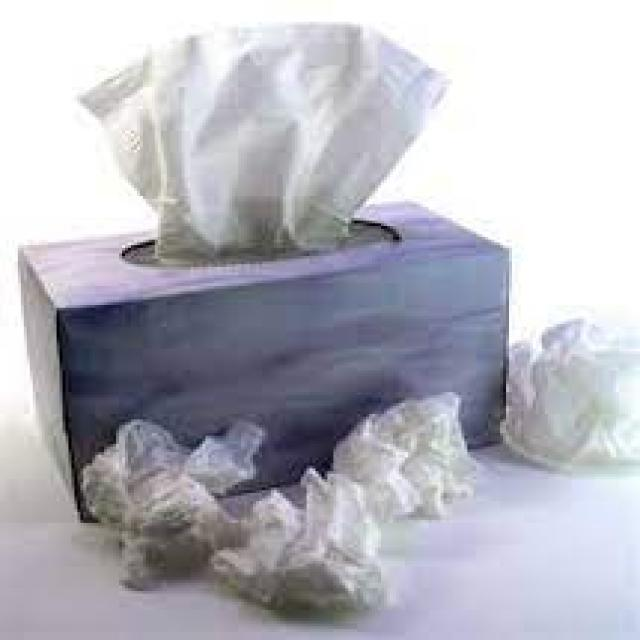tissue: (81, 24, 444, 264), (83, 420, 265, 588), (210, 460, 383, 611), (503, 319, 639, 469), (333, 393, 474, 521)
